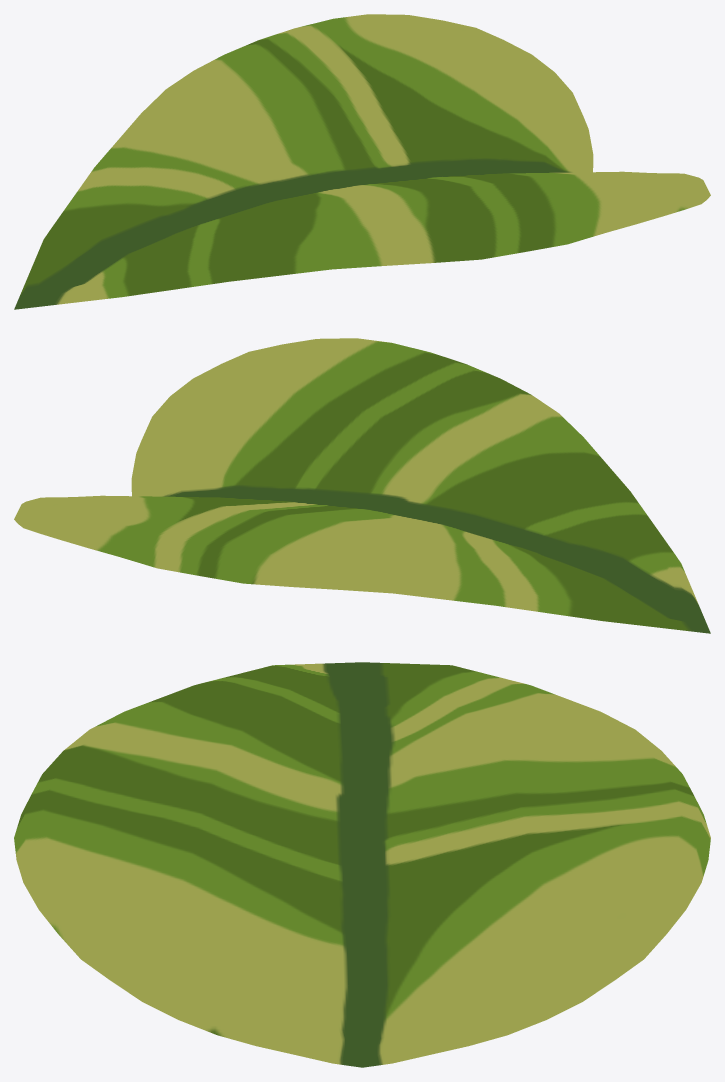
File: Leaf01.fbx
3 renders of one model, top to bottom at view 1: azimuth 30°, elevation 25°; view 2: azimuth 150°, elevation 25°; view 3: azimuth 270°, elevation 25°, orthographic. The views are drawn at different scales.
Visible parts, largest first — view 1: Plane.026; view 2: Plane.026; view 3: Plane.026.
Boxes of the visible parts, x1,y1,x2,y2 form: Plane.026: (14, 14, 710, 309); Plane.026: (14, 338, 710, 633); Plane.026: (14, 662, 710, 1067).
Bounding box in the file's own units: 0.7744 × 0.1525 × 0.5991.
